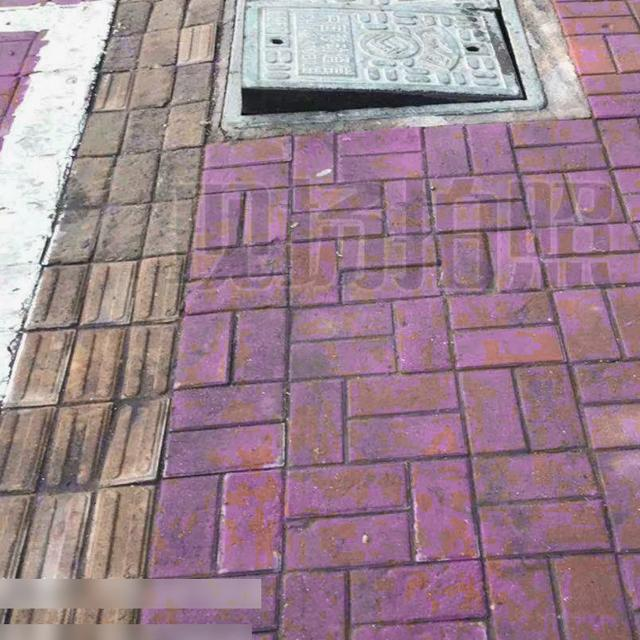uncovered: (219, 0, 545, 135)
